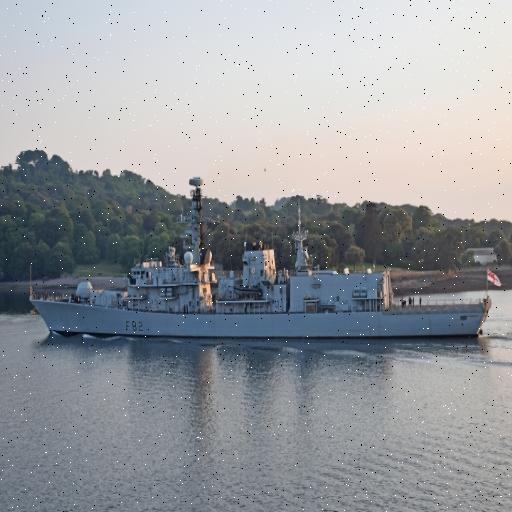Fragata: (27, 156, 498, 344)
